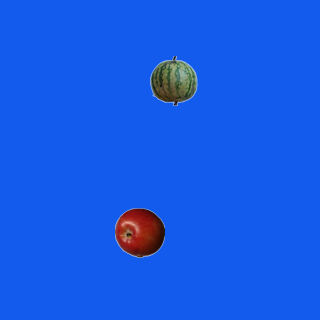Apple Braeburn: (114, 207, 164, 257)
Watermelon: (148, 55, 198, 105)
